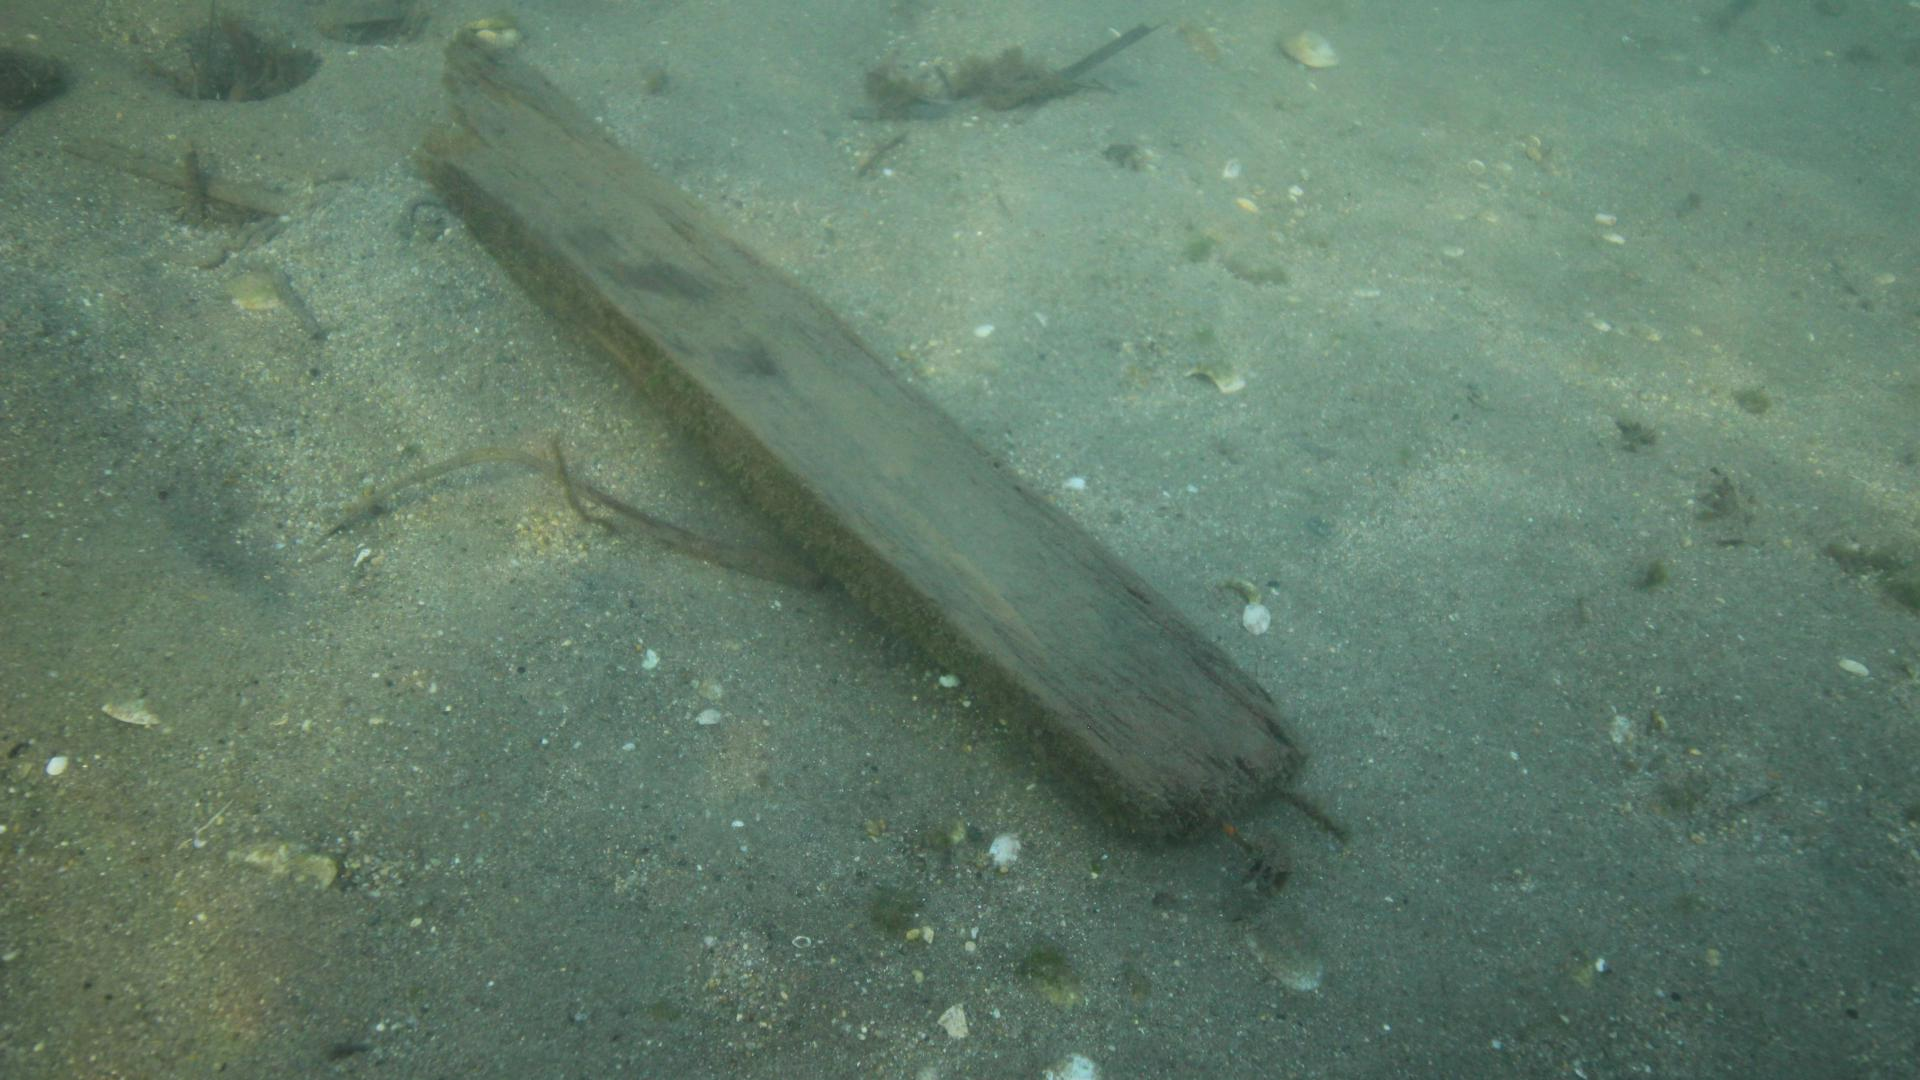wood: (417, 25, 1309, 847)
